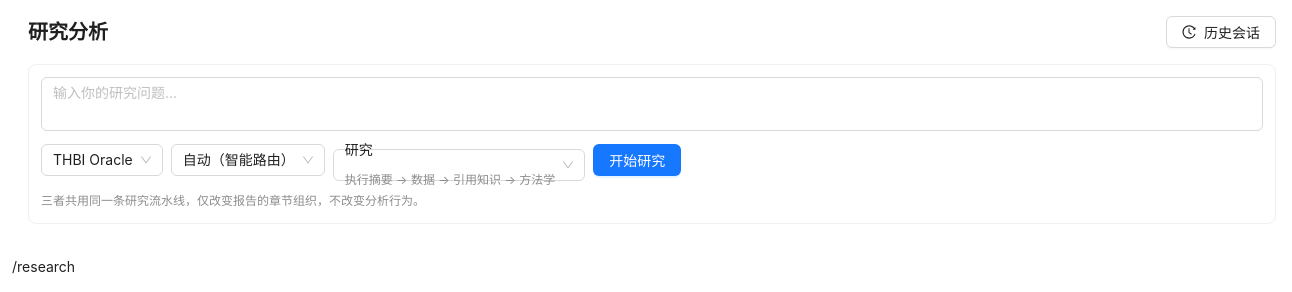
ResearchListPage › 创建失败：提示错误且不导航
Step 1. Type "供应商 360° 全景" into the text box with placeholder "输入你的研究问题…" → (652, 104), box [41,77,1263,131]
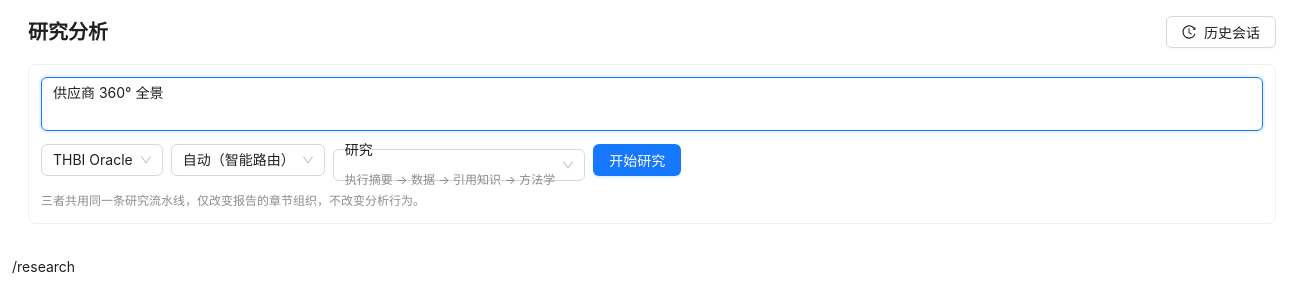
Step 2. Click the button "开始研究" → (637, 160), box [593,144,681,176]
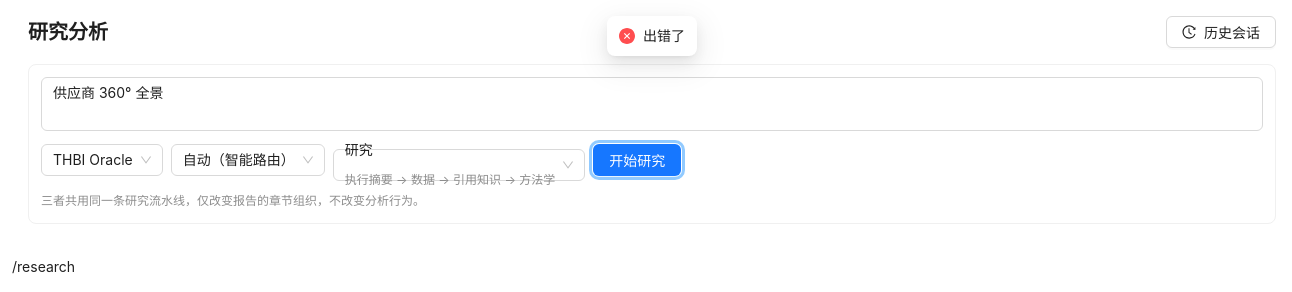
Expected: the text with test id "probe" reads "/research", [12,258,75,275]
Expected: the text "出错了" is shown, [643,25,685,47]
